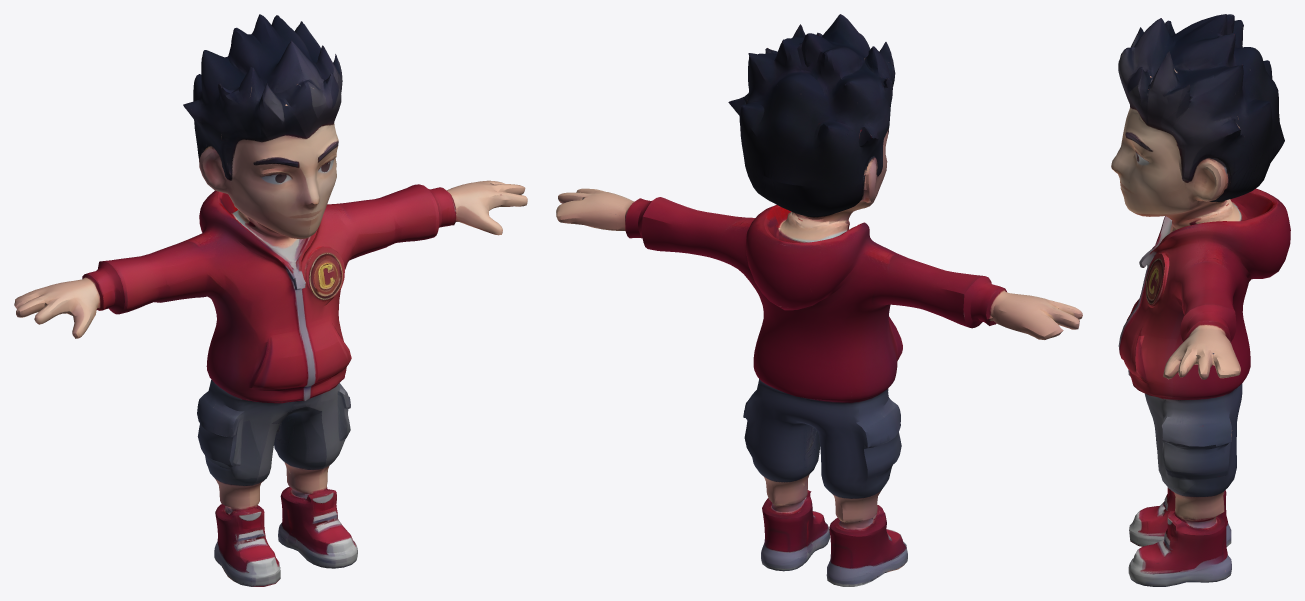
File: Meshy_AI_Crimson_Captain_0528171219_image-to-3d-texture.obj
3 renders of one model, left to right at view 1: azimuth 30°, elevation 25°; view 2: azimuth 150°, elevation 25°; view 3: azimuth 270°, elevation 25°, orthographic. The views are drawn at different scales.
Parts seen in each view (by area): view 1: Meshy_AI_Crimson_Captain_0528171219_image-to-3d-texture; view 2: Meshy_AI_Crimson_Captain_0528171219_image-to-3d-texture; view 3: Meshy_AI_Crimson_Captain_0528171219_image-to-3d-texture.
Part boxes in pixels (<box>): Meshy_AI_Crimson_Captain_0528171219_image-to-3d-texture: <box>14,14,527,586</box>; Meshy_AI_Crimson_Captain_0528171219_image-to-3d-texture: <box>556,14,1082,586</box>; Meshy_AI_Crimson_Captain_0528171219_image-to-3d-texture: <box>1111,14,1290,586</box>.
Bounding box in the file's own units: 1.9 × 1.89 × 0.5681.
Materials: 1 (1 with a texture image).
